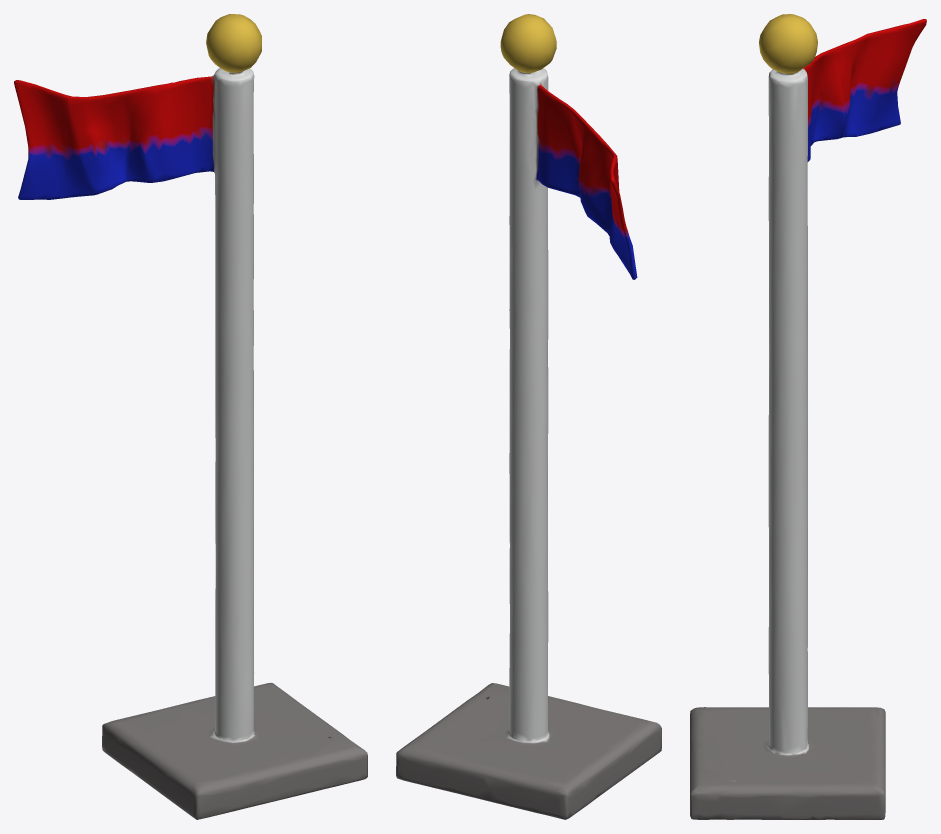
The model's file is gen3d-flagpole-lod0.glb.
The picture shows the model from 3 angles, left to right: view 1: azimuth 30°, elevation 25°; view 2: azimuth 150°, elevation 25°; view 3: azimuth 270°, elevation 25°; orthographic projection.
Visible parts, largest first — view 1: part_0; view 2: part_0; view 3: part_0.
Part boxes in pixels (x1,y1,x2,y2): part_0: [14, 14, 367, 819]; part_0: [396, 14, 661, 819]; part_0: [690, 14, 926, 819].
Bounding box in the file's own units: 0.3468 × 0.9992 × 0.2817.
